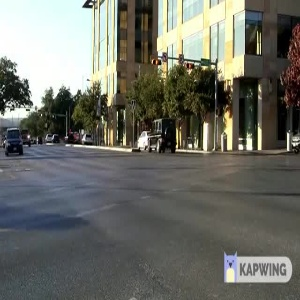suv: (141, 118, 182, 153)
van: (1, 124, 25, 160)
